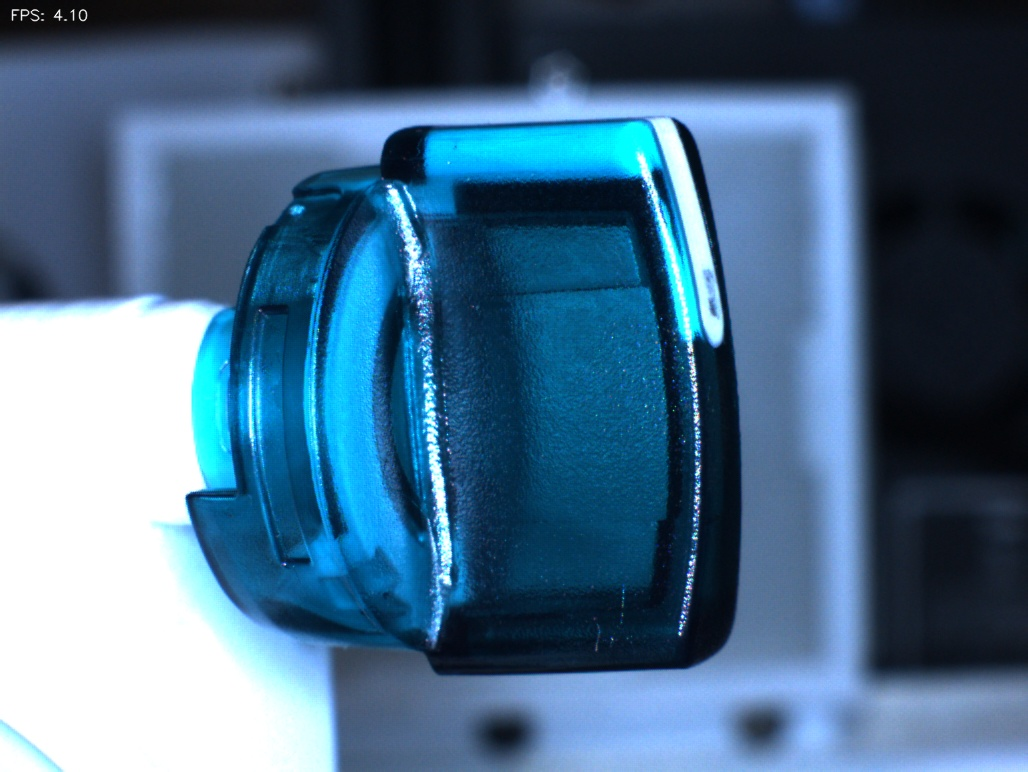PointNoir: (691, 247, 748, 330)
